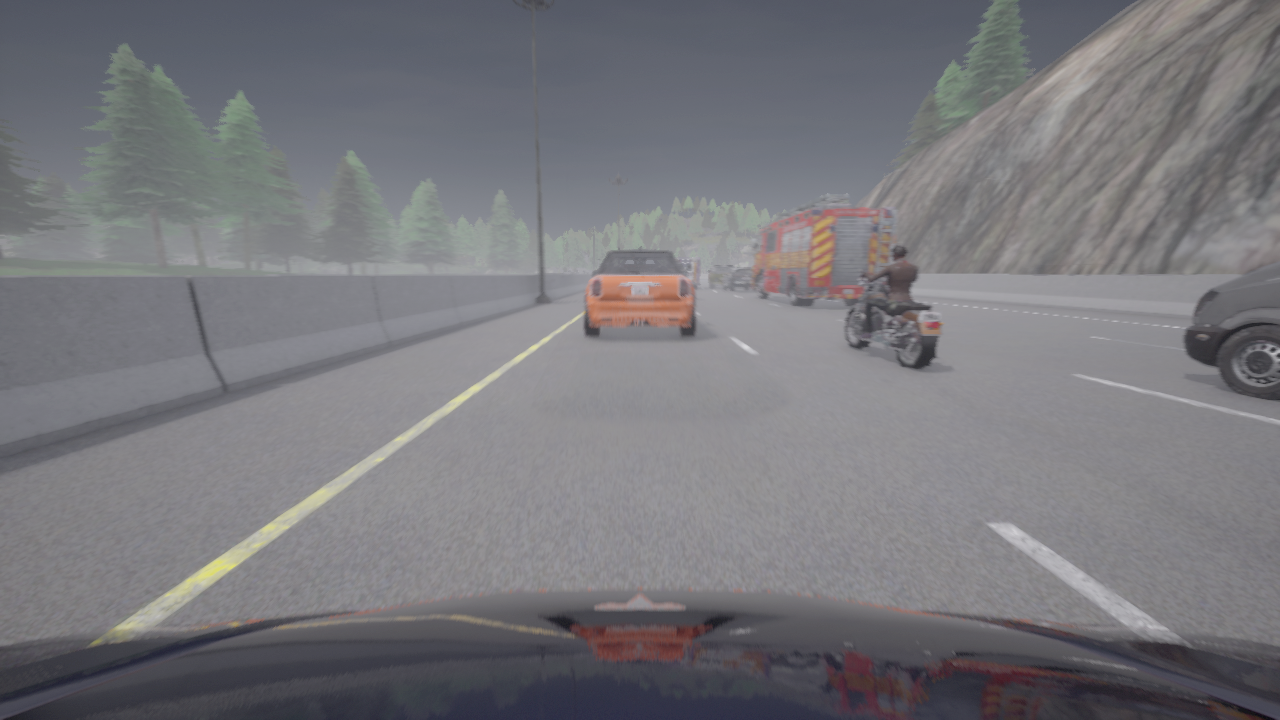cyclist: (0, 588, 1279, 719), (750, 194, 895, 306), (1184, 261, 1279, 400), (844, 268, 942, 369), (584, 248, 695, 336), (722, 267, 757, 291), (675, 258, 699, 288), (708, 264, 732, 287)
